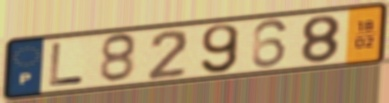2: (147, 28, 193, 82)
6: (251, 18, 290, 71)
8: (97, 32, 140, 86), (300, 13, 343, 64)
9: (200, 22, 242, 75)
L: (47, 42, 87, 89)
